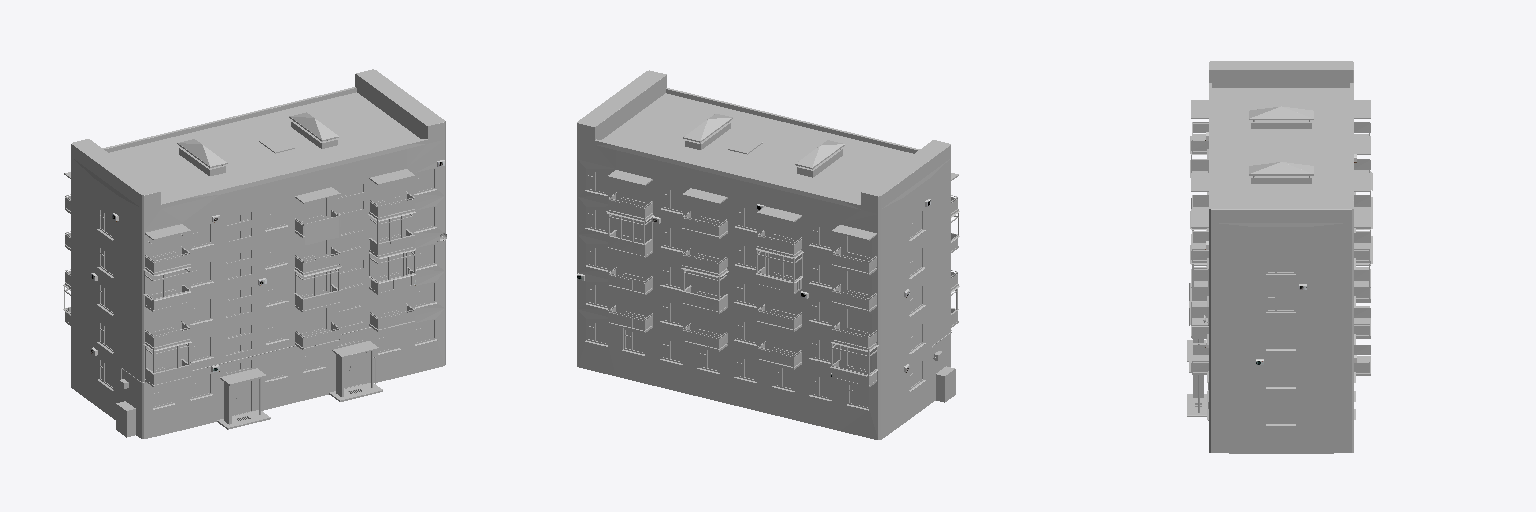
The picture shows the model from 3 angles: view 1: azimuth 30°, elevation 25°; view 2: azimuth 150°, elevation 25°; view 3: azimuth 270°, elevation 25°; orthographic projection.
Parts seen in each view (by area): view 1: base_windows, glass, balcons, Door_vitagki, vizors, other; view 2: base_windows, balcons, glass, Door_vitagki; view 3: base_windows, balcons, Door_vitagki, glass, vizors.
Part boxes in pixels (x1,y1,x2,y2): base_windows: (71, 69, 445, 438); glass: (101, 170, 433, 406); balcons: (63, 169, 415, 437); Door_vitagki: (177, 112, 363, 415); vizors: (217, 341, 382, 429); other: (148, 216, 446, 244); base_windows: (577, 70, 950, 439); balcons: (606, 170, 959, 402); glass: (588, 170, 921, 406); Door_vitagki: (683, 113, 844, 177); base_windows: (1207, 61, 1355, 453); balcons: (1189, 100, 1372, 420); Door_vitagki: (1249, 106, 1313, 183); glass: (1268, 254, 1293, 422); vizors: (1187, 301, 1207, 416).
Bounding box in the file's own units: 10447 × 7800 × 5295.
Materials: 8 (1 with a texture image).